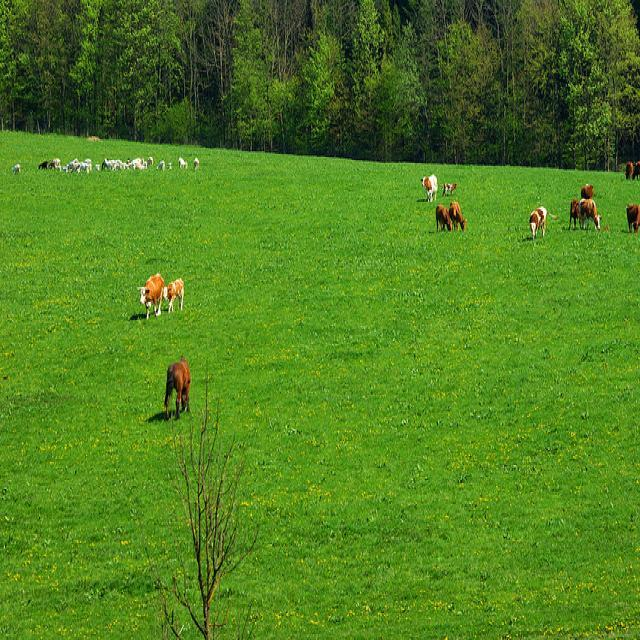cow: (13, 66, 638, 238), (162, 353, 190, 419), (134, 272, 163, 317), (578, 196, 601, 229), (162, 275, 183, 311), (418, 169, 436, 200), (624, 201, 639, 234), (447, 199, 465, 226), (434, 202, 451, 229), (529, 207, 544, 237), (567, 196, 580, 230), (579, 183, 592, 198), (441, 181, 455, 194)
